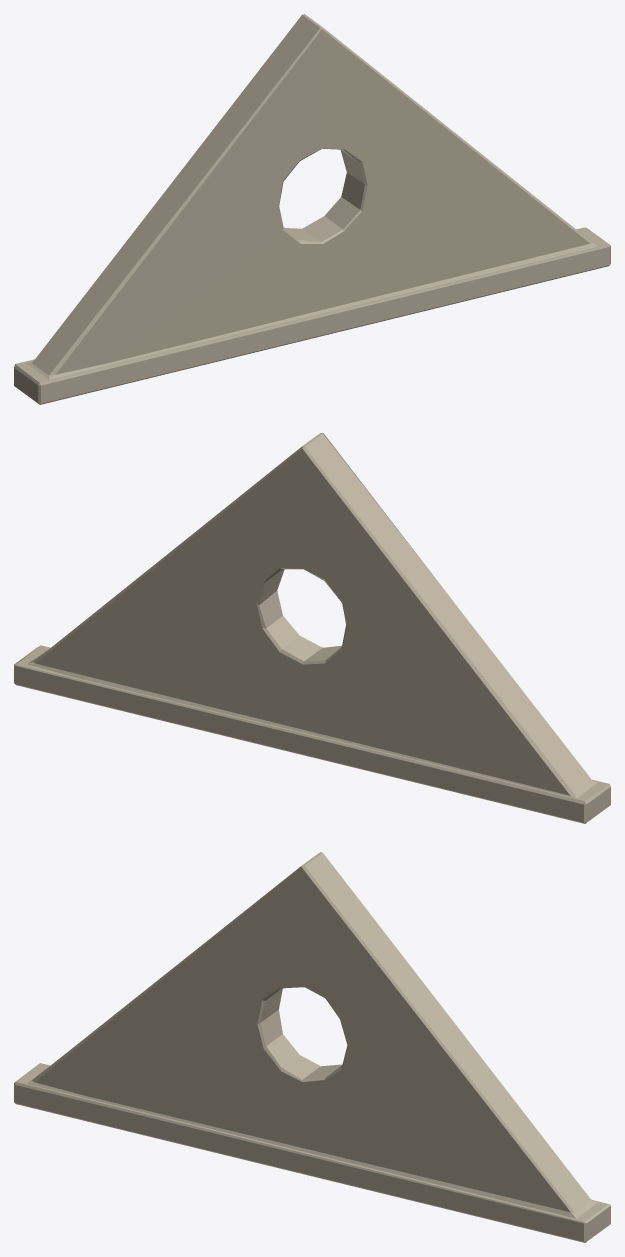
The model's file is gable_win_r8.fbx.
3 views of the same model, one above another, from view 1: azimuth 30°, elevation 25°; view 2: azimuth 150°, elevation 25°; view 3: azimuth 330°, elevation 25° (orthographic).
Parts seen in each view (by area): view 1: gable_win_r8; view 2: gable_win_r8; view 3: gable_win_r8.
Part boxes in pixels (x1,y1,x2,y2): gable_win_r8: [14, 14, 610, 404]; gable_win_r8: [14, 433, 610, 823]; gable_win_r8: [14, 852, 610, 1242].
Bounding box in the file's own units: 1640 × 836 × 130.
